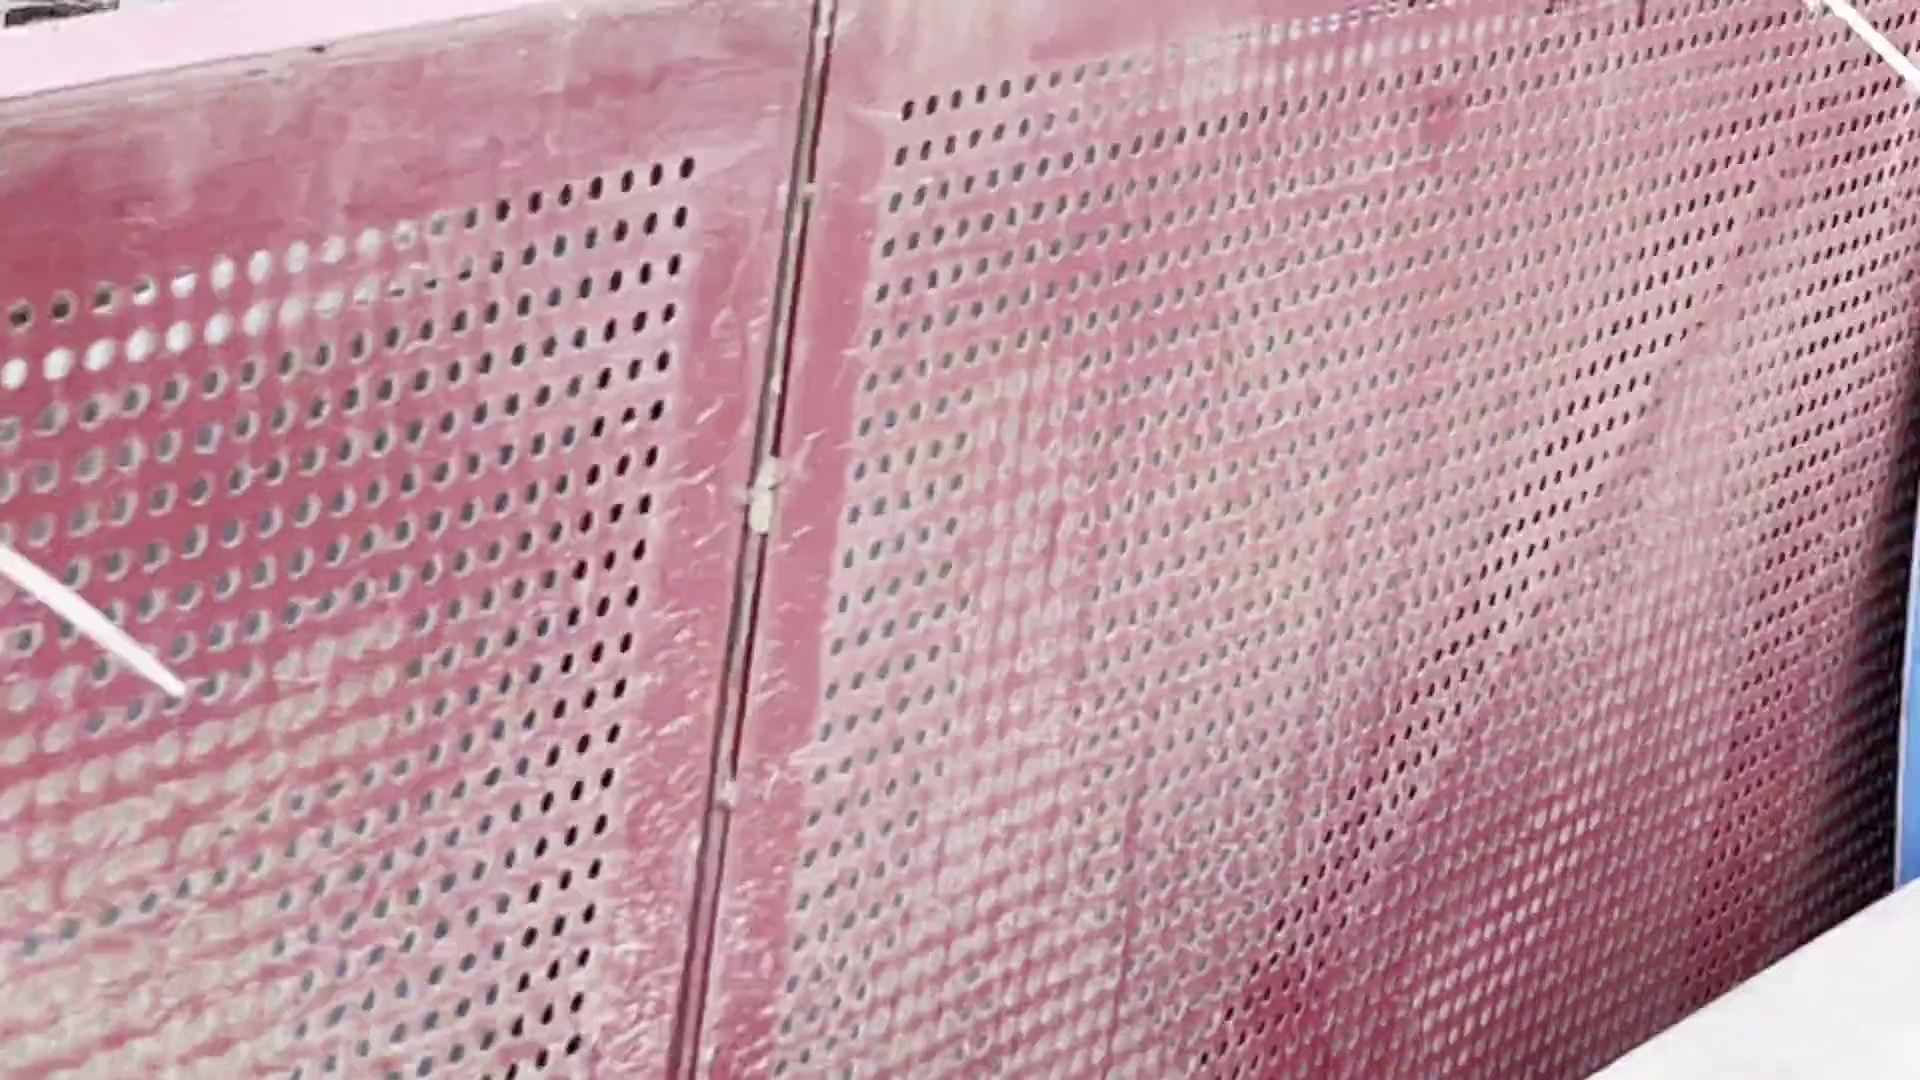fence: (45, 1, 1726, 1038)
